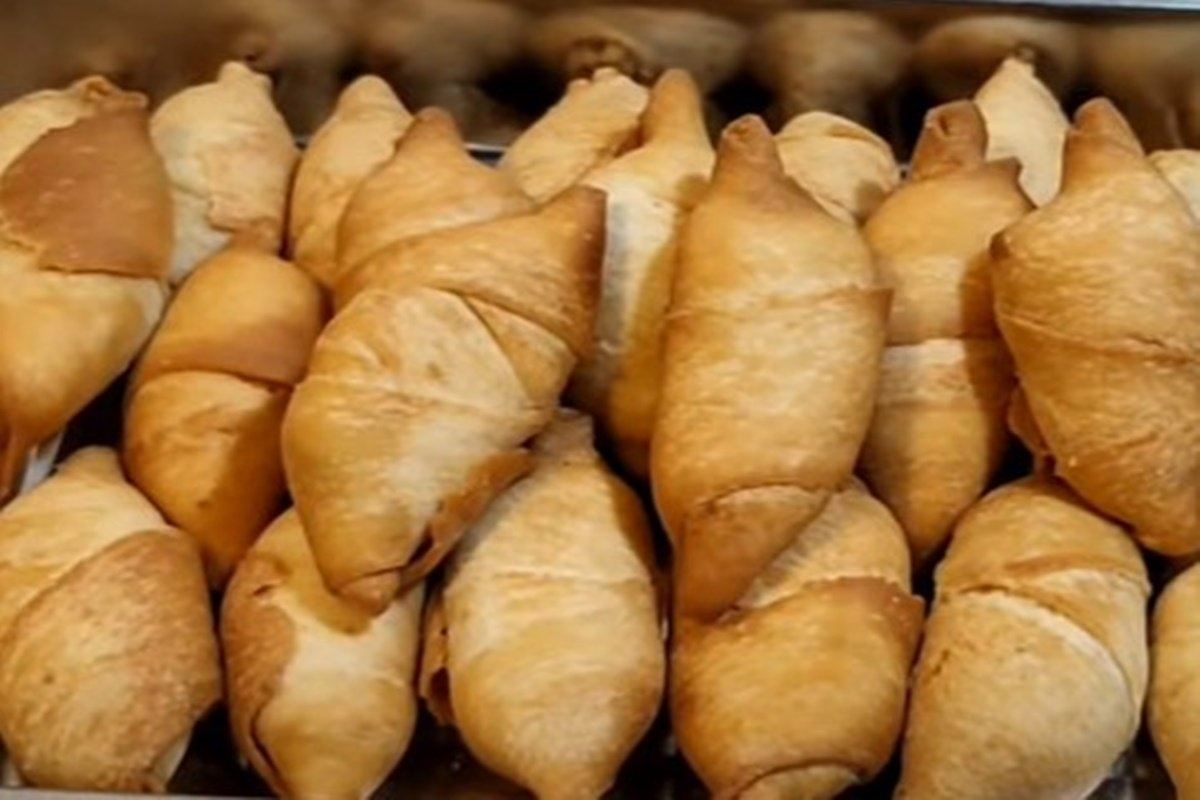pisang_molen: (279, 182, 602, 604), (647, 114, 891, 618), (988, 95, 1199, 557), (437, 422, 668, 797), (1, 447, 220, 785)
